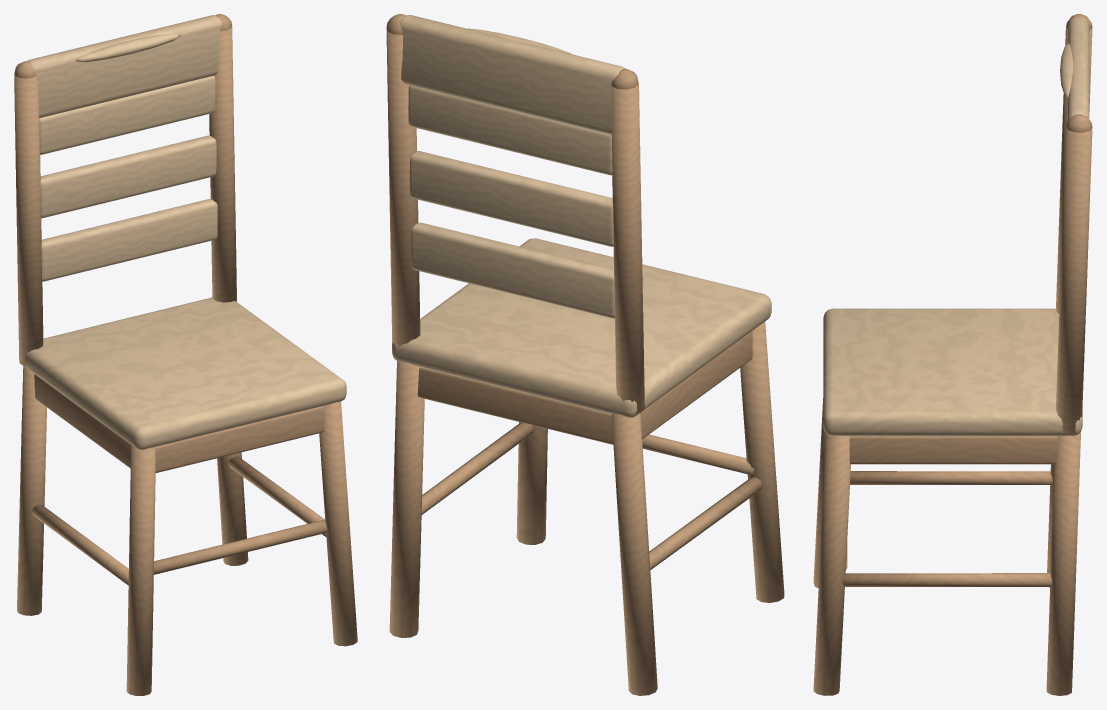
Rendered from trumua-cafe-chair.glb.
3 renders of one model, left to right at view 1: azimuth 30°, elevation 25°; view 2: azimuth 150°, elevation 25°; view 3: azimuth 270°, elevation 25°, orthographic. The views are drawn at different scales.
Parts seen in each view (by area): view 1: trumua-cafe-chair; view 2: trumua-cafe-chair; view 3: trumua-cafe-chair.
Boxes of the visible parts, <box> form: trumua-cafe-chair: <box>14,14,357,695</box>; trumua-cafe-chair: <box>386,14,784,695</box>; trumua-cafe-chair: <box>813,14,1092,695</box>.
Size of the model in its own units: 0.4199 by 0.9513 by 0.4197.
1 material, 1 textured.
